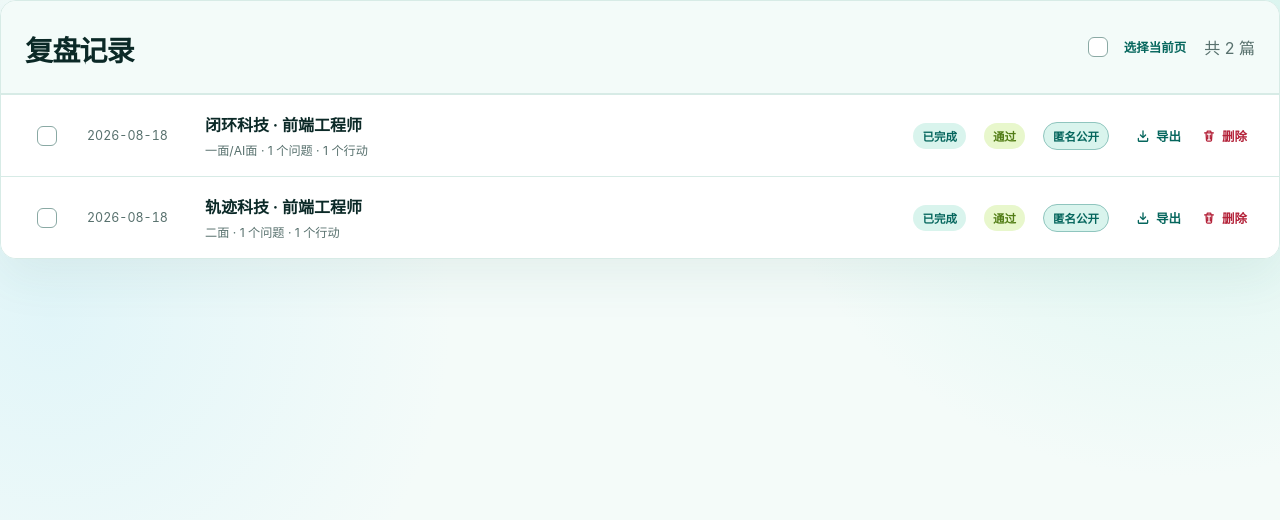
Scenario: 面经列表 › 支持单篇 Markdown 导出和多选 ZIP 导出
What coordinates should you click on to do the following:
click the checkbox named "选择当前页全部 2 篇面经"
I would click on:
 (1098, 47)
Its box is x1=1088 y1=37 x2=1108 y2=57.
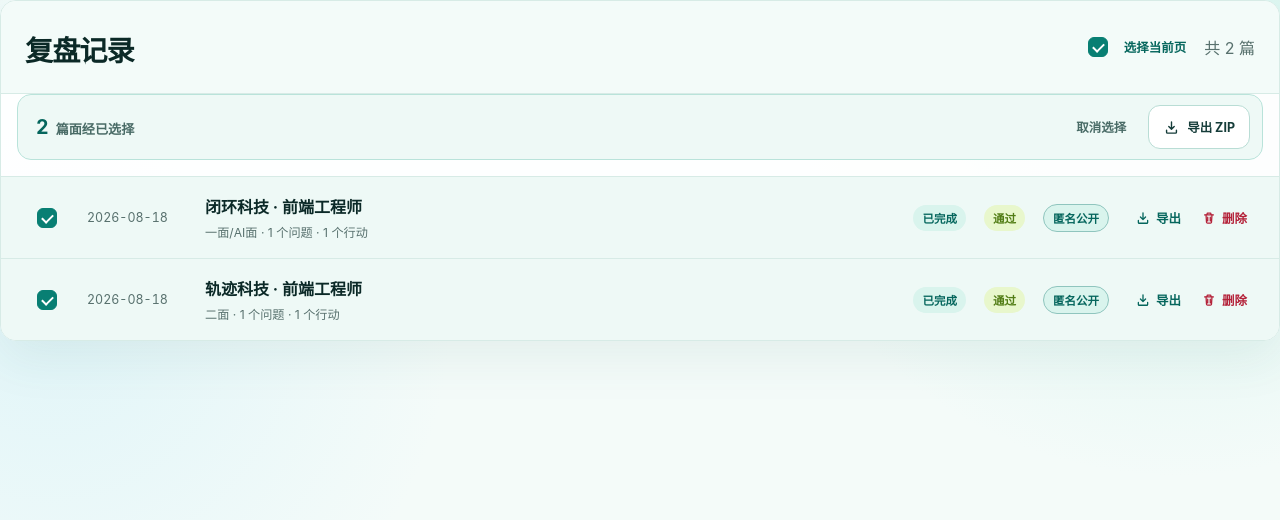
Check: the text "2" is shown, box x1=36 y1=115 x2=49 y2=139
